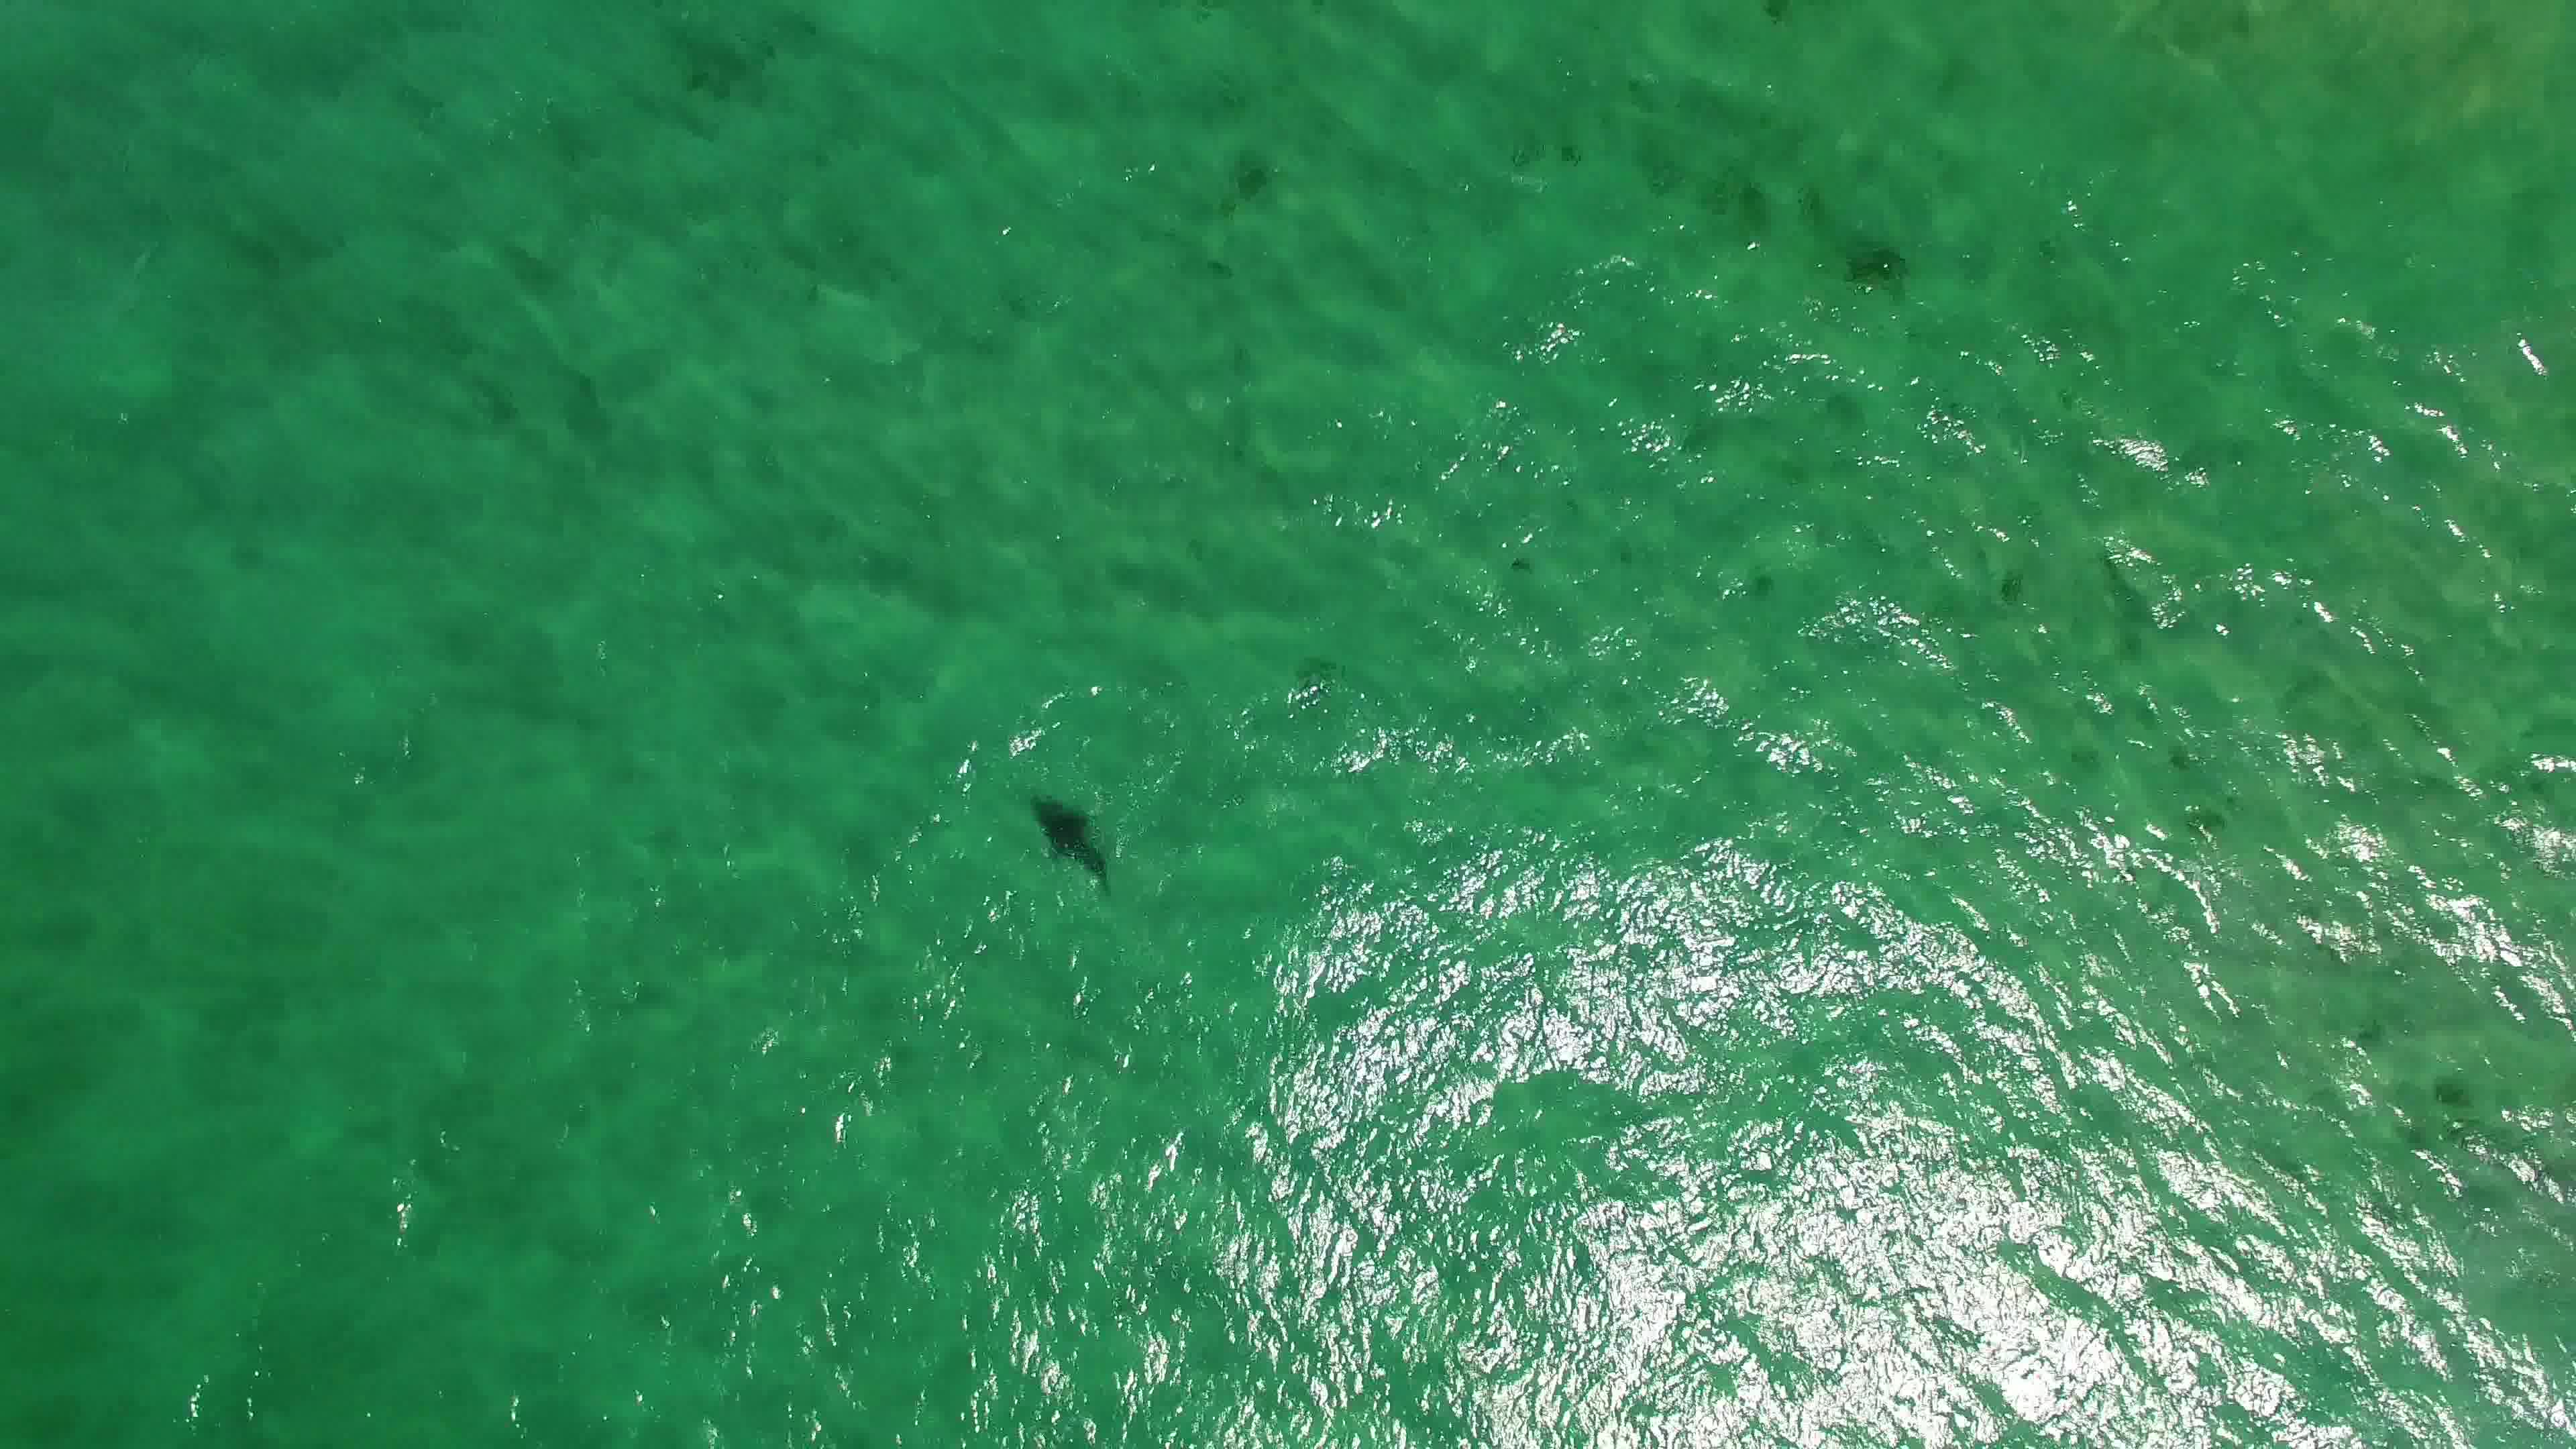shark: (1024, 789, 1123, 902)
